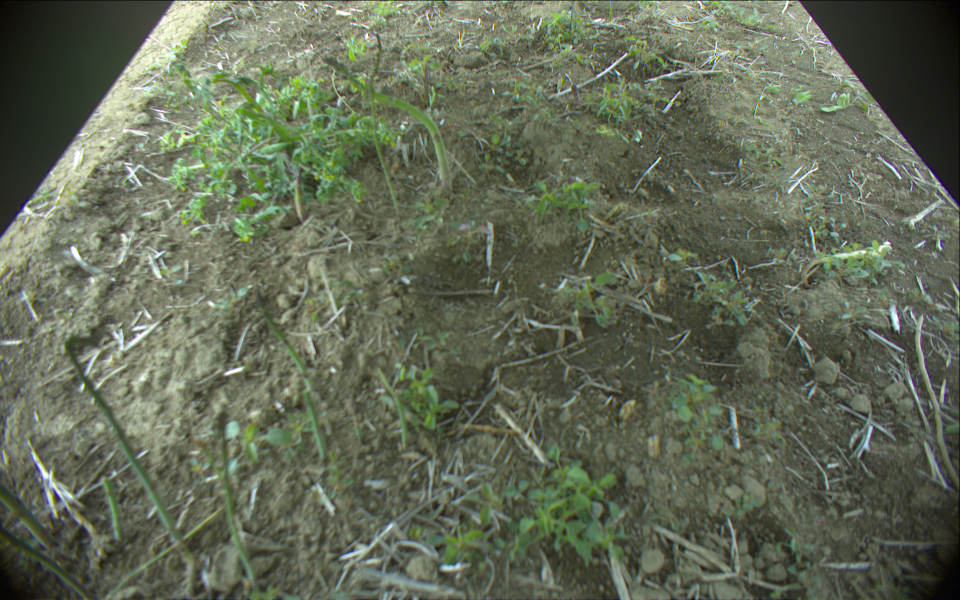aspa: (63, 340, 195, 566), (321, 56, 454, 195), (218, 408, 260, 594), (1, 527, 94, 600), (368, 32, 401, 213), (254, 288, 312, 389), (1, 485, 57, 550), (379, 366, 408, 450), (302, 390, 327, 458), (98, 475, 124, 540), (294, 164, 308, 223)
